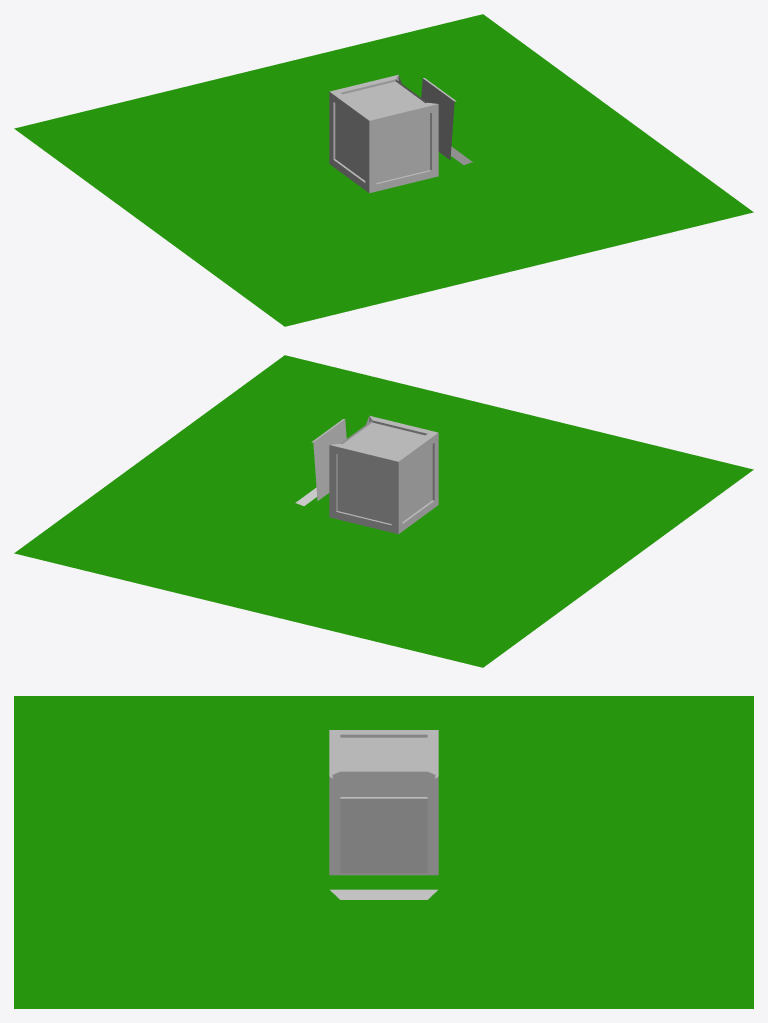
File: caixa_000080.obj
3 views of the same model, one above another, from view 1: azimuth 30°, elevation 25°; view 2: azimuth 150°, elevation 25°; view 3: azimuth 270°, elevation 25° (orthographic). The views are drawn at different scales.
Visible parts, largest first — view 1: Plane, Cube_Cube.003, Cube.002_Cube.001; view 2: Plane, Cube_Cube.003, Cube.002_Cube.001; view 3: Plane, Cube_Cube.003, Cube.002_Cube.001, Cube.001_Cube.000.
Boxes of the visible parts, left/top/right/bottom form: Plane: left=14, top=14, right=753, bottom=326; Cube_Cube.003: left=329, top=74, right=438, bottom=193; Cube.002_Cube.001: left=421, top=78, right=456, bottom=159; Plane: left=14, top=355, right=753, bottom=667; Cube_Cube.003: left=329, top=415, right=438, bottom=534; Cube.002_Cube.001: left=311, top=419, right=346, bottom=500; Plane: left=14, top=696, right=753, bottom=1008; Cube_Cube.003: left=329, top=730, right=438, bottom=875; Cube.002_Cube.001: left=340, top=797, right=427, bottom=873; Cube.001_Cube.000: left=330, top=889, right=437, bottom=899.
Bounding box in the file's own units: 13.55 × 2.01 × 13.55.
